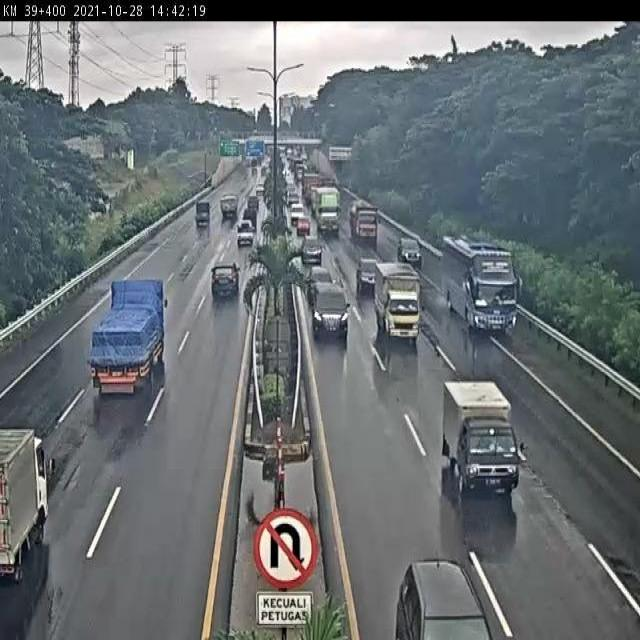big bus: (442, 235, 517, 332)
big truck: (88, 280, 167, 393)
car: (313, 283, 350, 340), (211, 261, 242, 299), (306, 266, 331, 302), (355, 259, 380, 288), (399, 239, 422, 264), (301, 236, 323, 261), (237, 220, 254, 245)
small truck: (441, 382, 517, 494), (373, 265, 419, 339)
